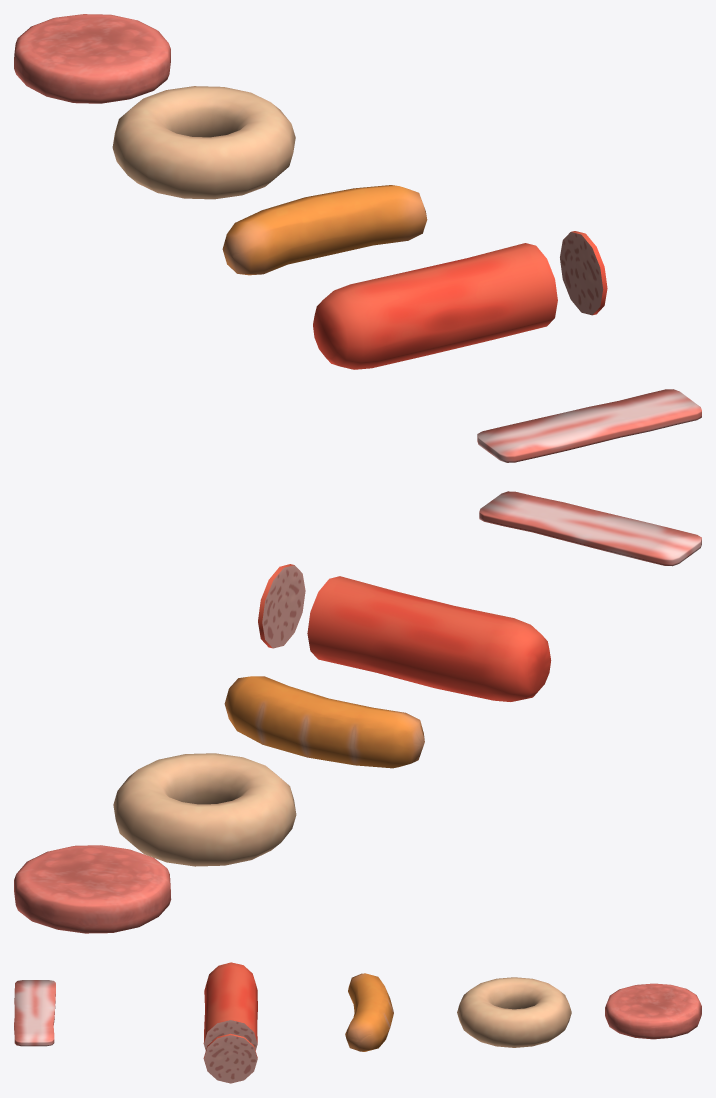
File: Example foods.fbx
The picture shows the model from 3 angles, top to bottom: view 1: azimuth 30°, elevation 25°; view 2: azimuth 150°, elevation 25°; view 3: azimuth 270°, elevation 25°; orthographic projection. The views are drawn at different scales.
Visible parts, largest first — view 1: Ham, Doughnut, Sausage, Burger patty, Bacon, Ham slice; view 2: Ham, Doughnut, Sausage, Burger patty, Bacon, Ham slice; view 3: Doughnut, Burger patty, Ham, Sausage, Bacon, Ham slice.
Part boxes in pixels (x1,y1,x2,y2): Ham: (313, 243, 557, 369); Doughnut: (112, 86, 295, 199); Sausage: (222, 185, 427, 275); Burger patty: (14, 14, 170, 103); Bacon: (477, 389, 701, 462); Ham slice: (560, 231, 607, 315); Ham: (307, 576, 551, 701); Doughnut: (113, 753, 296, 866); Sausage: (224, 676, 424, 768); Burger patty: (14, 845, 171, 933); Bacon: (479, 491, 701, 566); Ham slice: (258, 564, 305, 648); Doughnut: (457, 977, 571, 1047); Burger patty: (605, 983, 701, 1039); Ham: (203, 962, 257, 1050); Sausage: (345, 973, 393, 1051); Bacon: (14, 980, 55, 1046); Ham slice: (203, 1033, 257, 1083).
Size of what is drawn, in the model's own units: 22.23 by 6.45 by 81.52.
